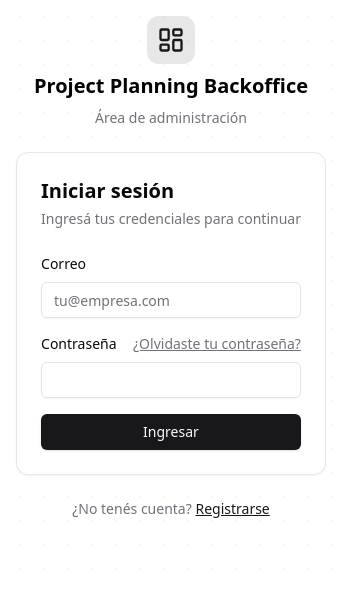
Test: Login page › shows validation error when submitting empty form
Click the button "Ingresar".
click(171, 432)  # box [41,414,301,450]
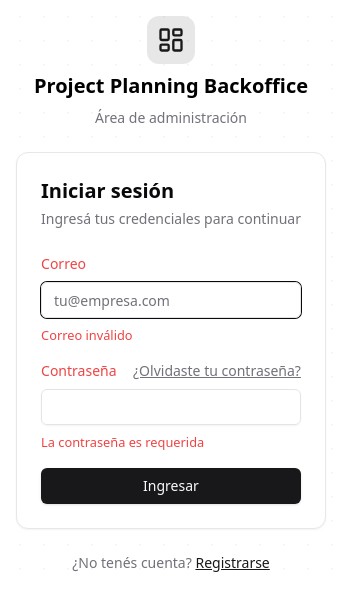
Now the text "Correo inválido" is shown, box [41,326,132,344]
